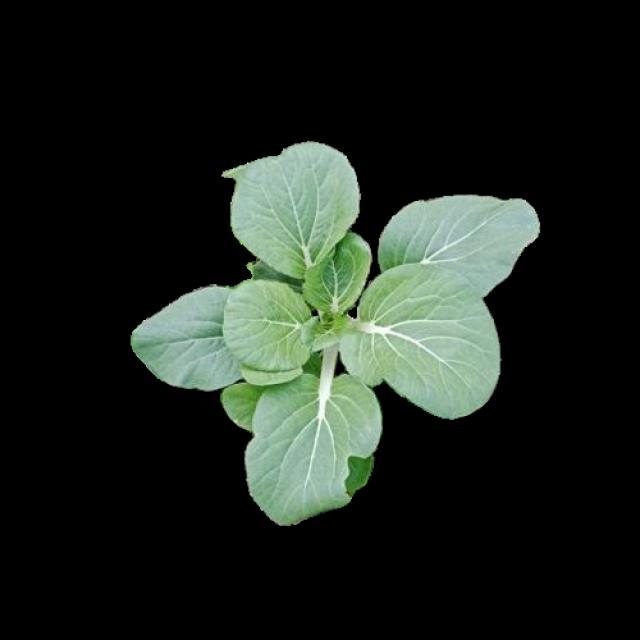not-mature: (132, 143, 543, 526)
unhealthy: (248, 376, 374, 524)
